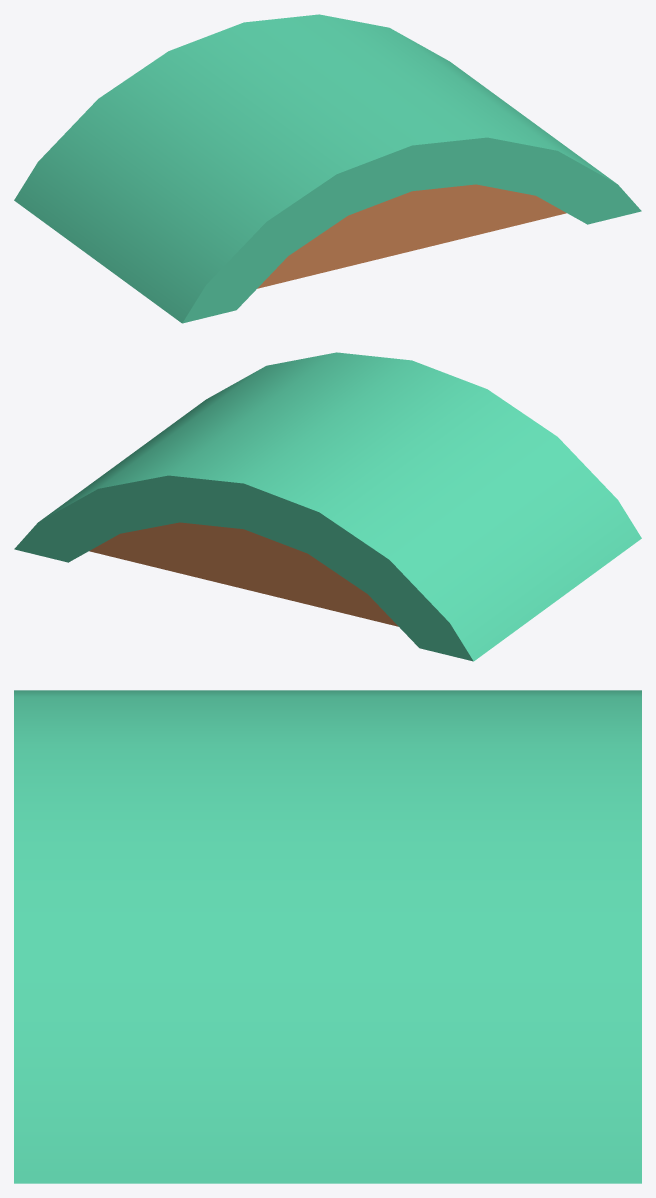
Rendered from blockCurveLow.fbx.
The picture shows the model from 3 angles, top to bottom: view 1: azimuth 30°, elevation 25°; view 2: azimuth 150°, elevation 25°; view 3: azimuth 270°, elevation 25°; orthographic projection. The views are drawn at different scales.
Visible parts, largest first — view 1: blockCurveLow; view 2: blockCurveLow; view 3: blockCurveLow.
Boxes of the visible parts, x1,y1,x2,y2 form: blockCurveLow: [14, 14, 641, 323]; blockCurveLow: [14, 352, 641, 661]; blockCurveLow: [14, 690, 641, 1183].
Size of the model in its own units: 15.79 by 4 by 10.
